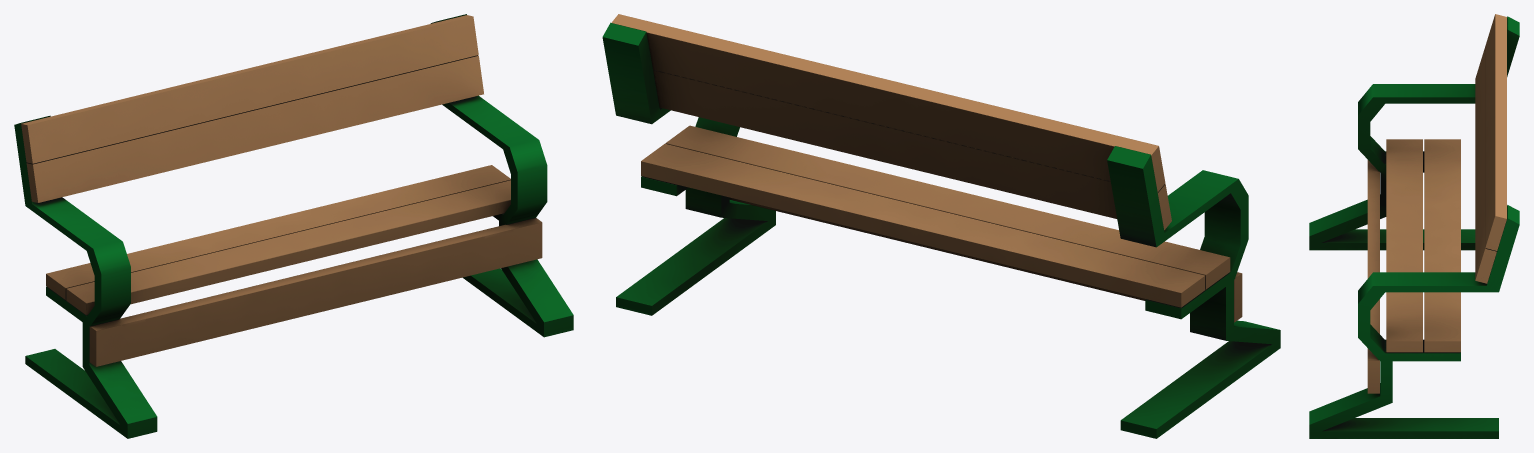
The model's file is Bench.fbx.
3 renders of one model, left to right at view 1: azimuth 30°, elevation 25°; view 2: azimuth 150°, elevation 25°; view 3: azimuth 270°, elevation 25°, orthographic. The views are drawn at different scales.
Parts seen in each view (by area): view 1: WoodPlanks, ArmRest; view 2: WoodPlanks, ArmRest; view 3: WoodPlanks, ArmRest.
Boxes of the visible parts, x1,y1,x2,y2 form: WoodPlanks: [21, 15, 542, 366]; ArmRest: [14, 14, 573, 438]; WoodPlanks: [611, 14, 1242, 322]; ArmRest: [602, 22, 1280, 438]; WoodPlanks: [1367, 14, 1506, 393]; ArmRest: [1309, 16, 1519, 438].
Bounding box in the file's own units: 33.64 × 14.82 × 17.32.
1 material, 1 textured.
